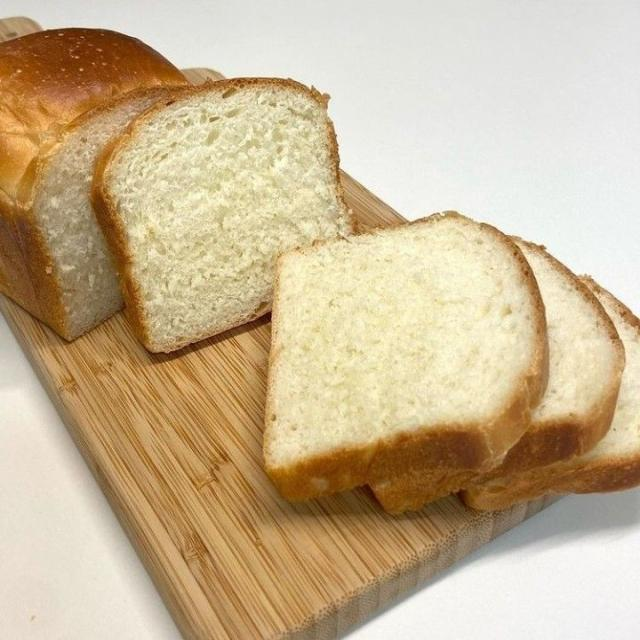sliced_bread: (265, 212, 546, 500), (92, 78, 354, 351), (374, 237, 624, 509), (463, 278, 639, 509)
